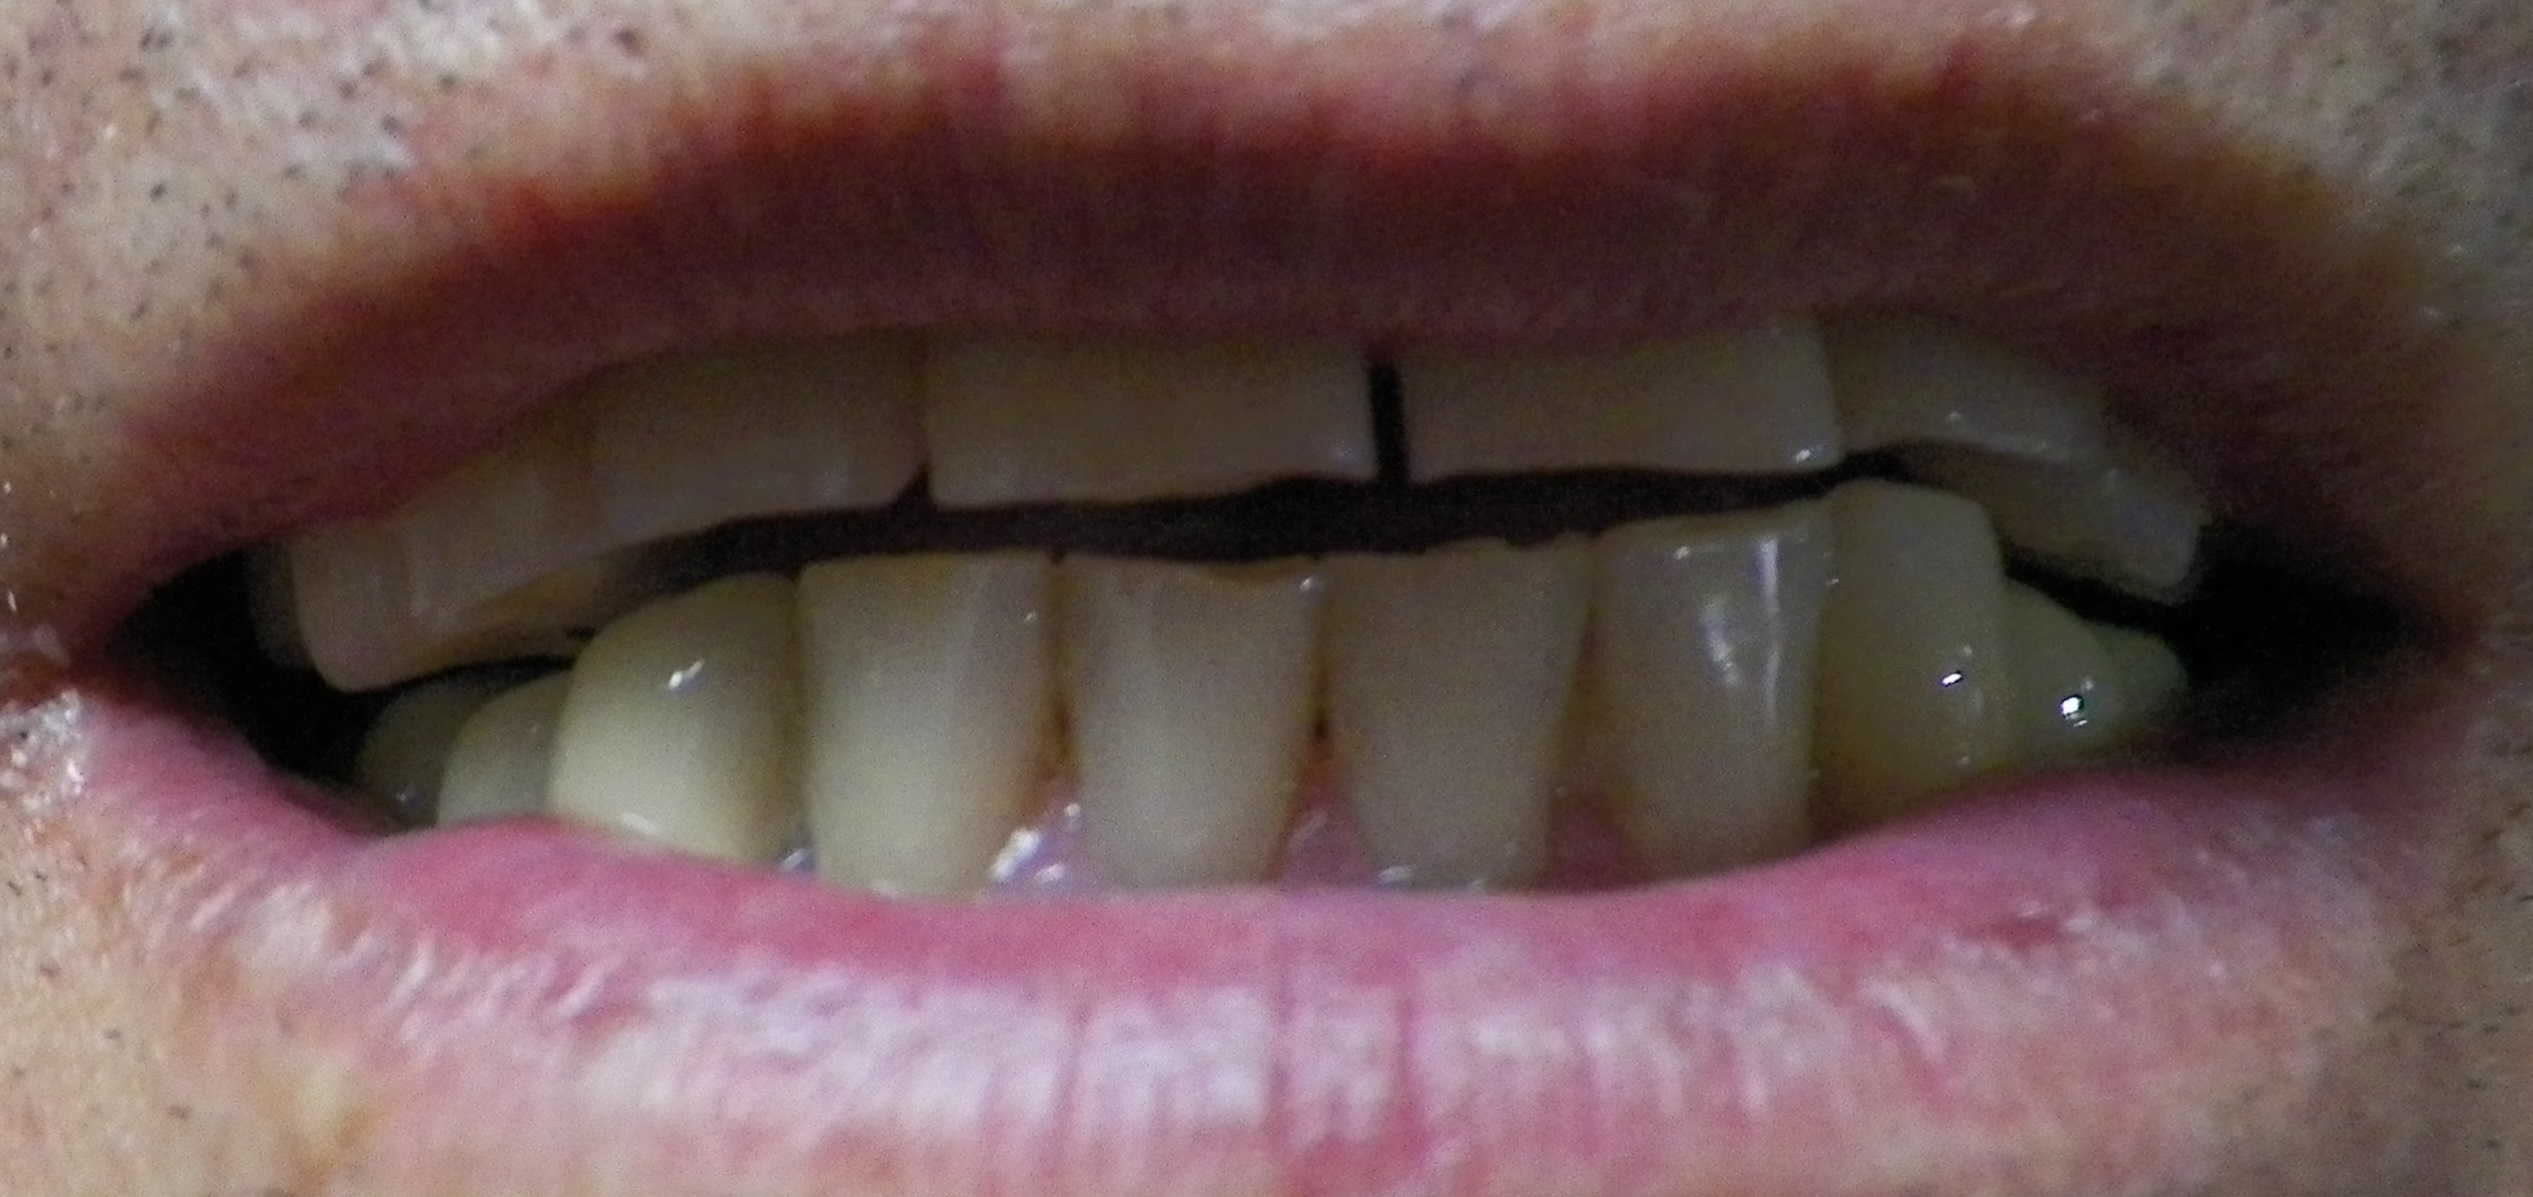boca: (292, 328, 2200, 863)
